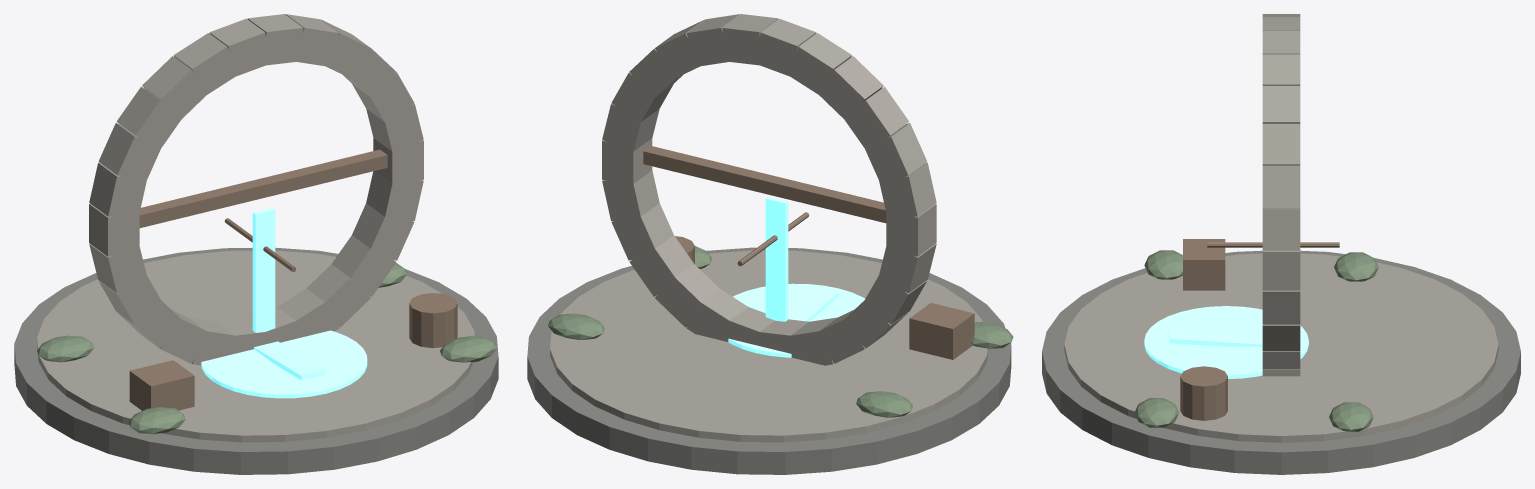
The model's file is Midgard_Mimir_Well_V1_YUP.glb.
3 renders of one model, left to right at view 1: azimuth 30°, elevation 25°; view 2: azimuth 150°, elevation 25°; view 3: azimuth 270°, elevation 25°, orthographic.
Visible parts, largest first — view 1: Mimir_InnerFloor, Mimir_Base, Mimir_Pool, Mimir_Beam, Mimir_Waterfall, Mimir_Crate, Mimir_Barrel, RingStone_11, RingStone_10, RingStone_9, RingStone_12, RingStone_8 (+25 smaller); view 2: Mimir_InnerFloor, Mimir_Base, Mimir_Beam, Mimir_Crate, Mimir_Waterfall, RingStone_11, Mimir_Pool, RingStone_10, RingStone_9, RingStone_12, RingStone_8, RingStone_23 (+24 smaller); view 3: Mimir_InnerFloor, Mimir_Base, Mimir_Pool, Mimir_Barrel, Mimir_Crate, RingStone_1, RingStone_2, RingStone_3, RingStone_0, Mimir_Stream, RingStone_4, RingStone_25 (+10 smaller).
Boxes of the visible parts, box(x1,y1,x2,y2) form: Mimir_InnerFloor: box(37, 250, 474, 442); Mimir_Base: box(14, 247, 498, 474); Mimir_Pool: box(201, 330, 367, 398); Mimir_Beam: box(139, 149, 387, 227); Mimir_Waterfall: box(252, 207, 275, 332); Mimir_Crate: box(129, 360, 194, 410); Mimir_Barrel: box(409, 293, 457, 348); RingStone_11: box(98, 123, 162, 183); RingStone_10: box(116, 86, 182, 150); RingStone_9: box(142, 56, 208, 121); RingStone_12: box(89, 162, 147, 216); RingStone_8: box(173, 33, 238, 96); Mimir_InnerFloor: box(550, 250, 988, 442); Mimir_Base: box(527, 247, 1011, 474); Mimir_Beam: box(643, 146, 886, 223); Mimir_Crate: box(909, 303, 974, 359); Mimir_Waterfall: box(765, 196, 788, 321); RingStone_11: box(863, 123, 927, 183); Mimir_Pool: box(728, 283, 864, 357); RingStone_10: box(842, 86, 909, 150); RingStone_9: box(816, 56, 883, 120); RingStone_12: box(878, 162, 936, 216); RingStone_8: box(791, 33, 851, 96); RingStone_23: box(629, 235, 693, 296); Mimir_InnerFloor: box(1064, 253, 1498, 442); Mimir_Base: box(1042, 250, 1520, 474); Mimir_Pool: box(1144, 306, 1308, 378); Mimir_Barrel: box(1180, 366, 1227, 420); Mimir_Crate: box(1183, 239, 1225, 290); RingStone_1: box(1262, 208, 1300, 250); RingStone_2: box(1262, 165, 1300, 207); RingStone_3: box(1262, 123, 1300, 165); RingStone_0: box(1262, 250, 1300, 290); Mimir_Stream: box(1169, 327, 1262, 346); RingStone_4: box(1262, 85, 1300, 123); RingStone_25: box(1262, 290, 1300, 324).
Size of the model in its own units: 9.6 by 7.58 by 9.6.
